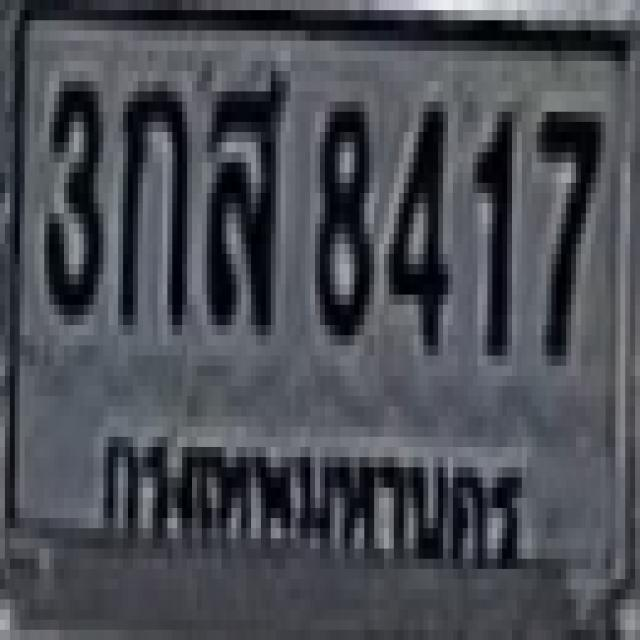1: (473, 102, 507, 346)
3: (44, 71, 99, 305)
4: (384, 92, 443, 346)
7: (532, 102, 596, 356)
8: (313, 92, 367, 336)
A01: (116, 76, 184, 320)
A40: (202, 66, 280, 320)
BKK: (86, 402, 537, 602)
